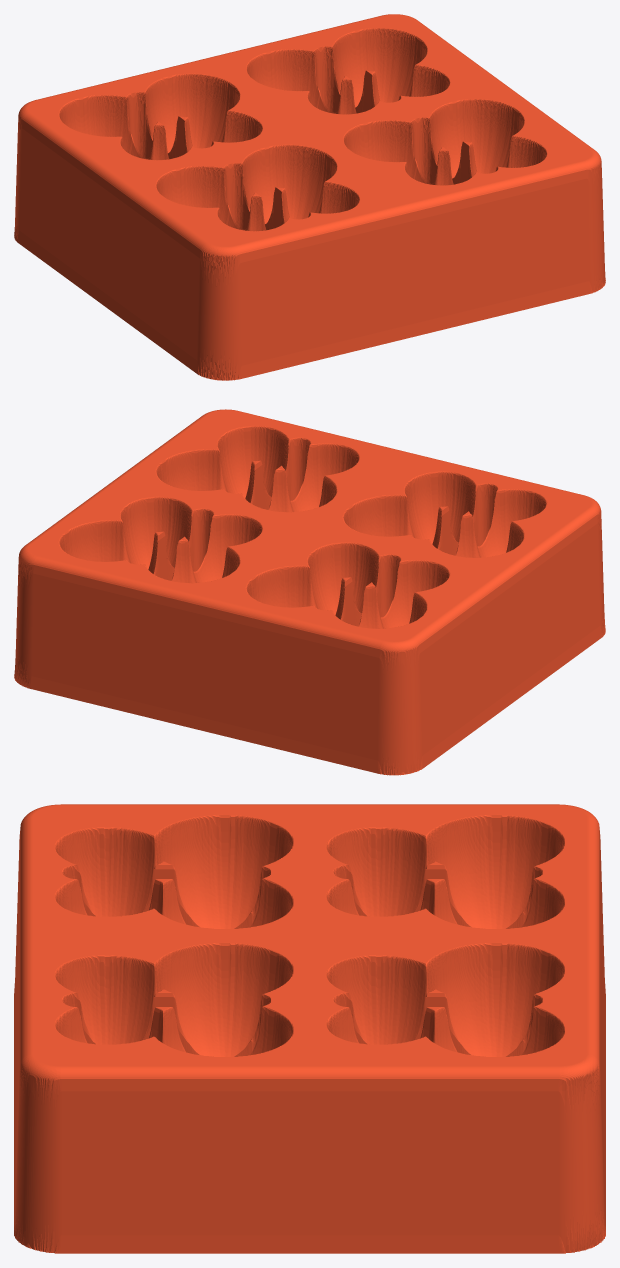
The model's file is mold.glb.
3 views of the same model, one above another, from view 1: azimuth 30°, elevation 25°; view 2: azimuth 150°, elevation 25°; view 3: azimuth 270°, elevation 25° (orthographic). The views are drawn at different scales.
Visible parts, largest first — view 1: geometry_0; view 2: geometry_0; view 3: geometry_0.
Boxes of the visible parts, x1,y1,x2,y2 form: geometry_0: [14, 14, 605, 380]; geometry_0: [14, 409, 605, 775]; geometry_0: [14, 804, 605, 1253].
Bounding box in the file's own units: 0.1248 × 0.0377 × 0.1129.
